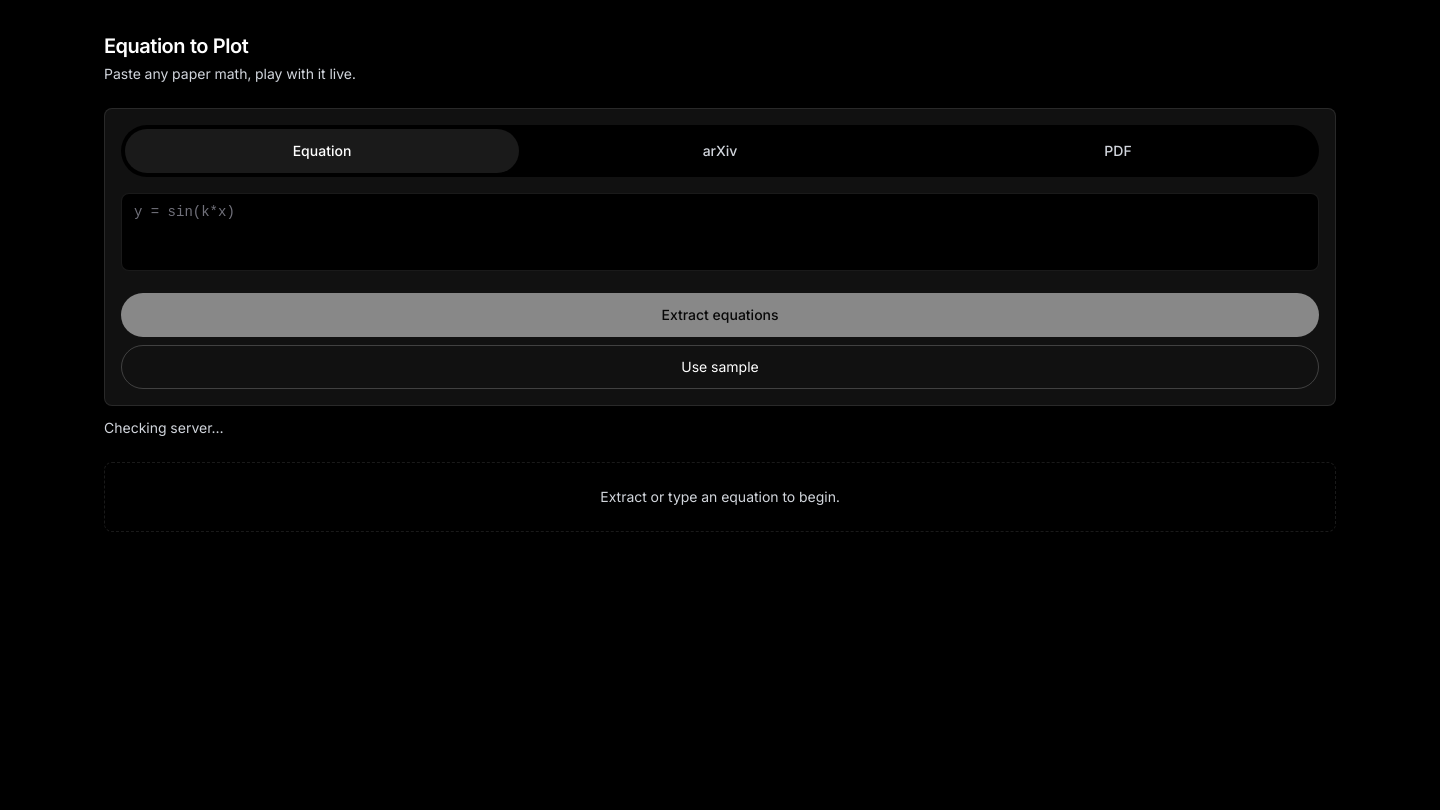
it: App status line › pluralizes the equation count
Click the button "Use sample": (720, 367) [121,345,1319,389]
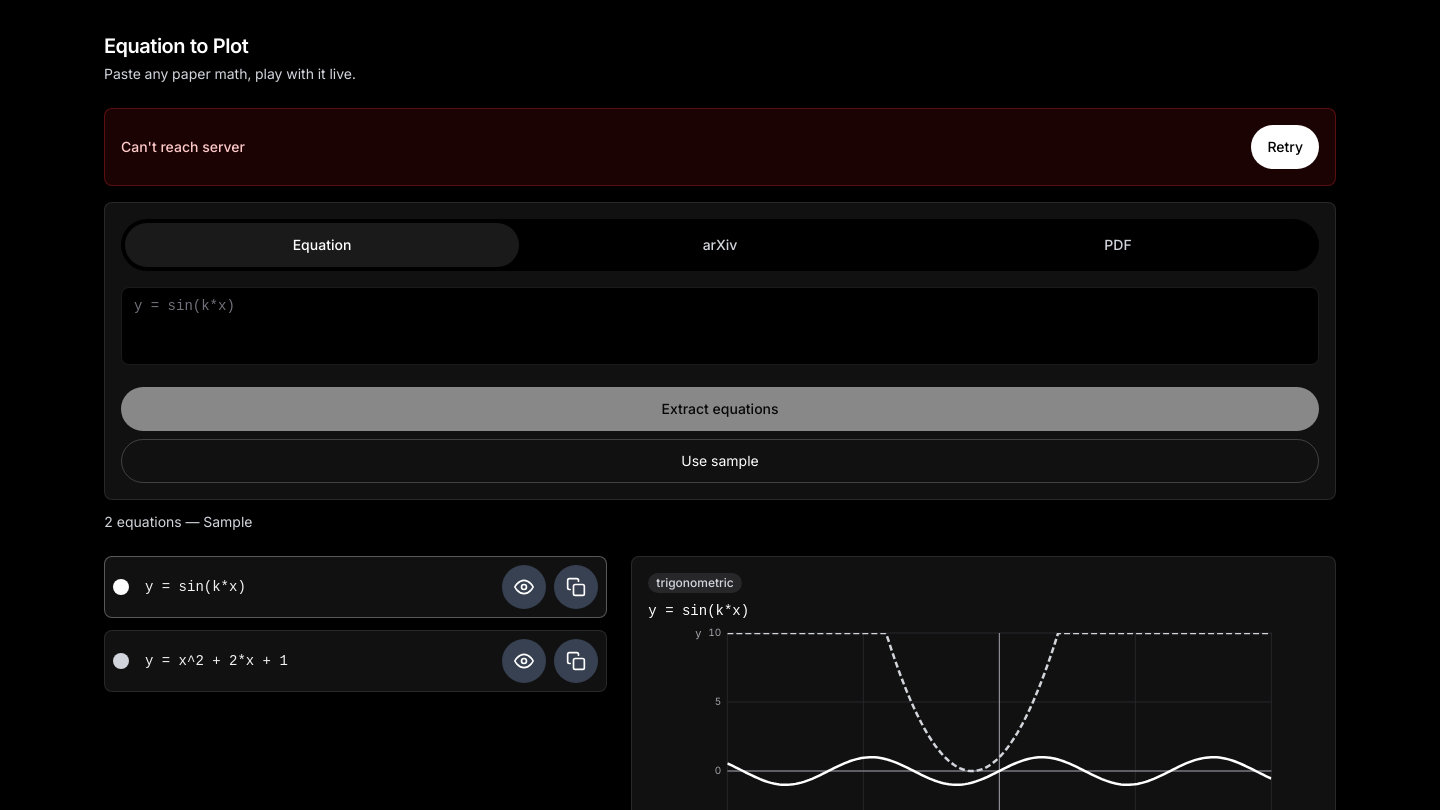
Expected: the text "2 equations — Sample" is shown, [104,513,252,530]
In the text box named "Equation text": (720, 326) [121,287,1319,365], type "y=x"
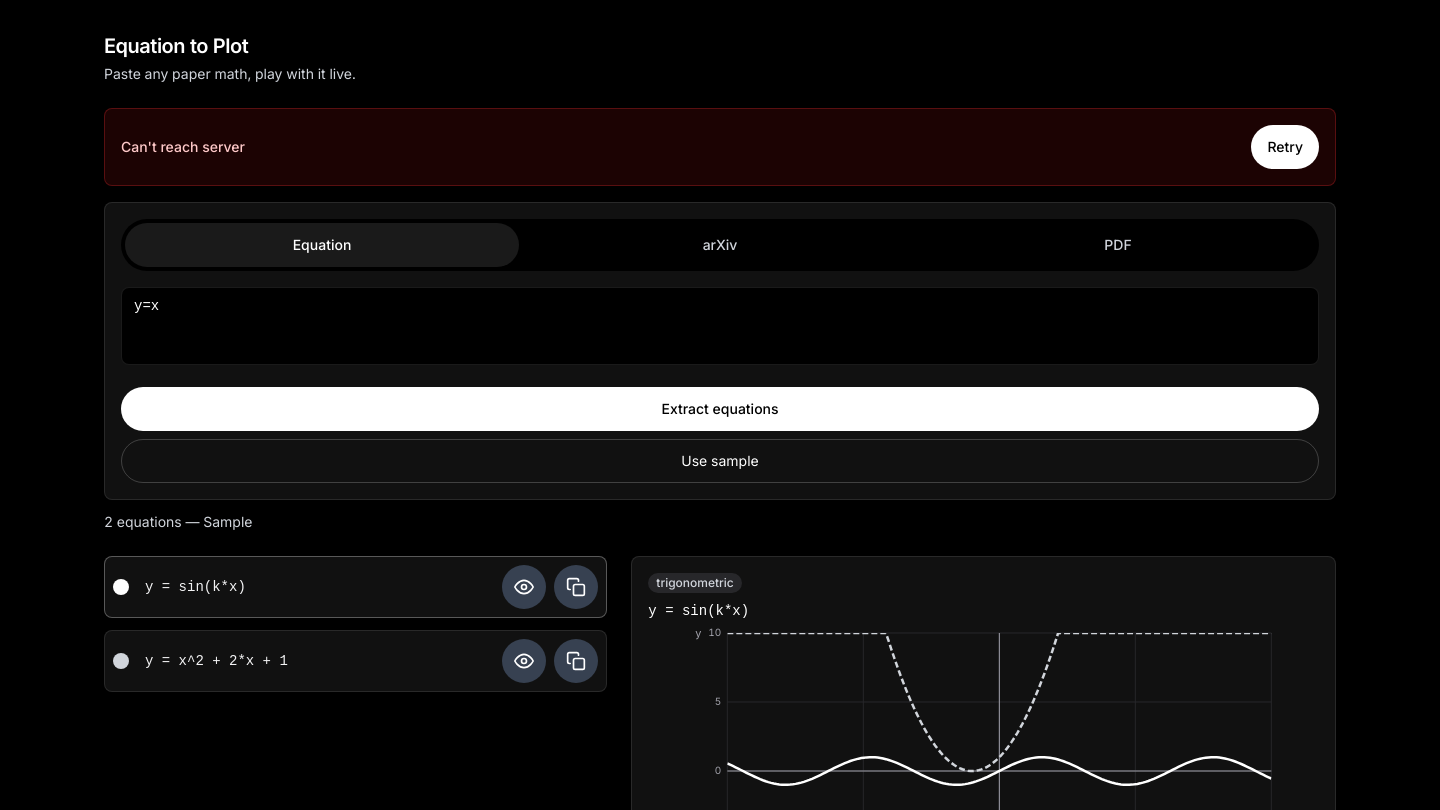
Click the button "Extract equations": (720, 409) [121,387,1319,431]
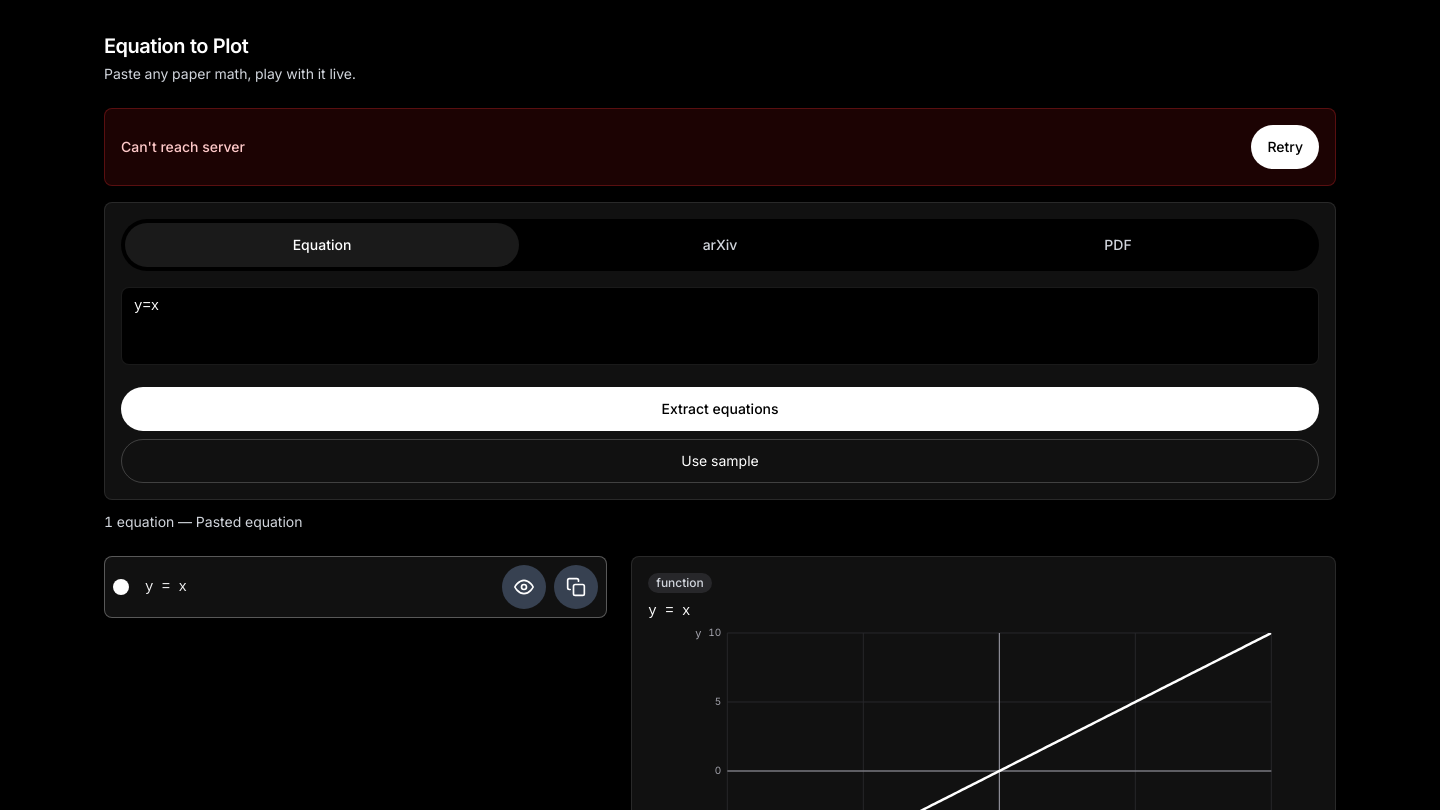
Expected: the text "1 equation — Pasted equation" is shown, [104,513,302,530]
